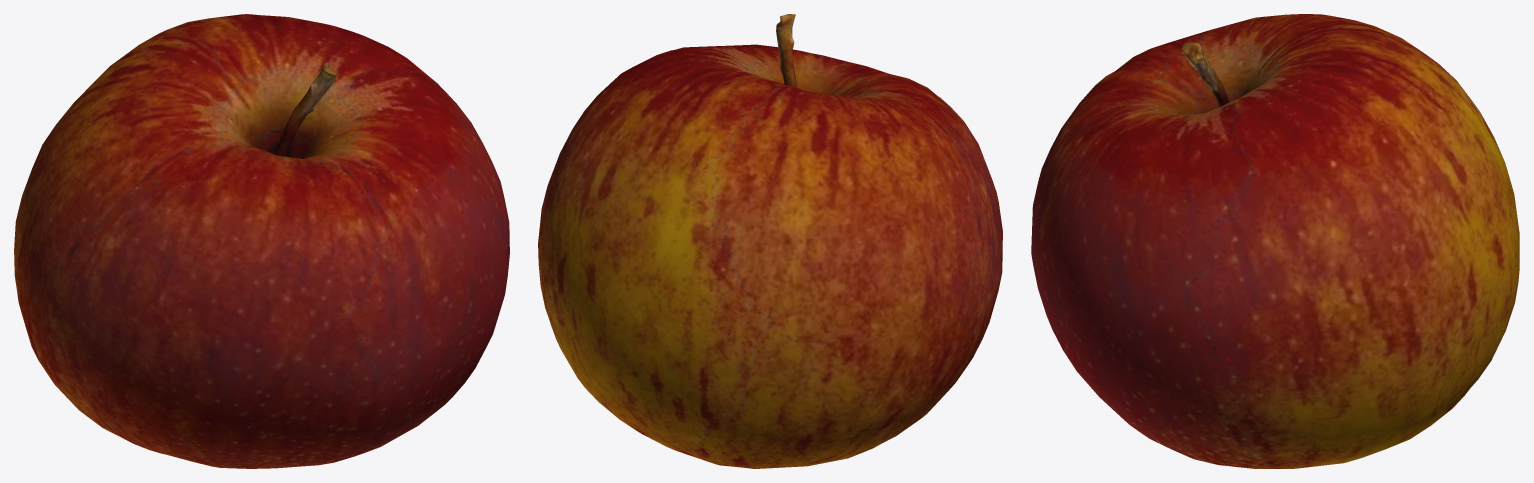
Rendered from food_apple_01.glb.
3 views of the same model, side by side, from view 1: azimuth 30°, elevation 25°; view 2: azimuth 150°, elevation 25°; view 3: azimuth 270°, elevation 25° (orthographic). The views are drawn at different scales.
Parts seen in each view (by area): view 1: food_apple_01; view 2: food_apple_01; view 3: food_apple_01.
Boxes of the visible parts, bbox=[...] form: food_apple_01: bbox=[14, 14, 509, 468]; food_apple_01: bbox=[538, 14, 1002, 468]; food_apple_01: bbox=[1031, 14, 1519, 468].
Size of the model in its own units: 0.0976 by 0.0854 by 0.0958.
Materials: 1 (1 with a texture image).
